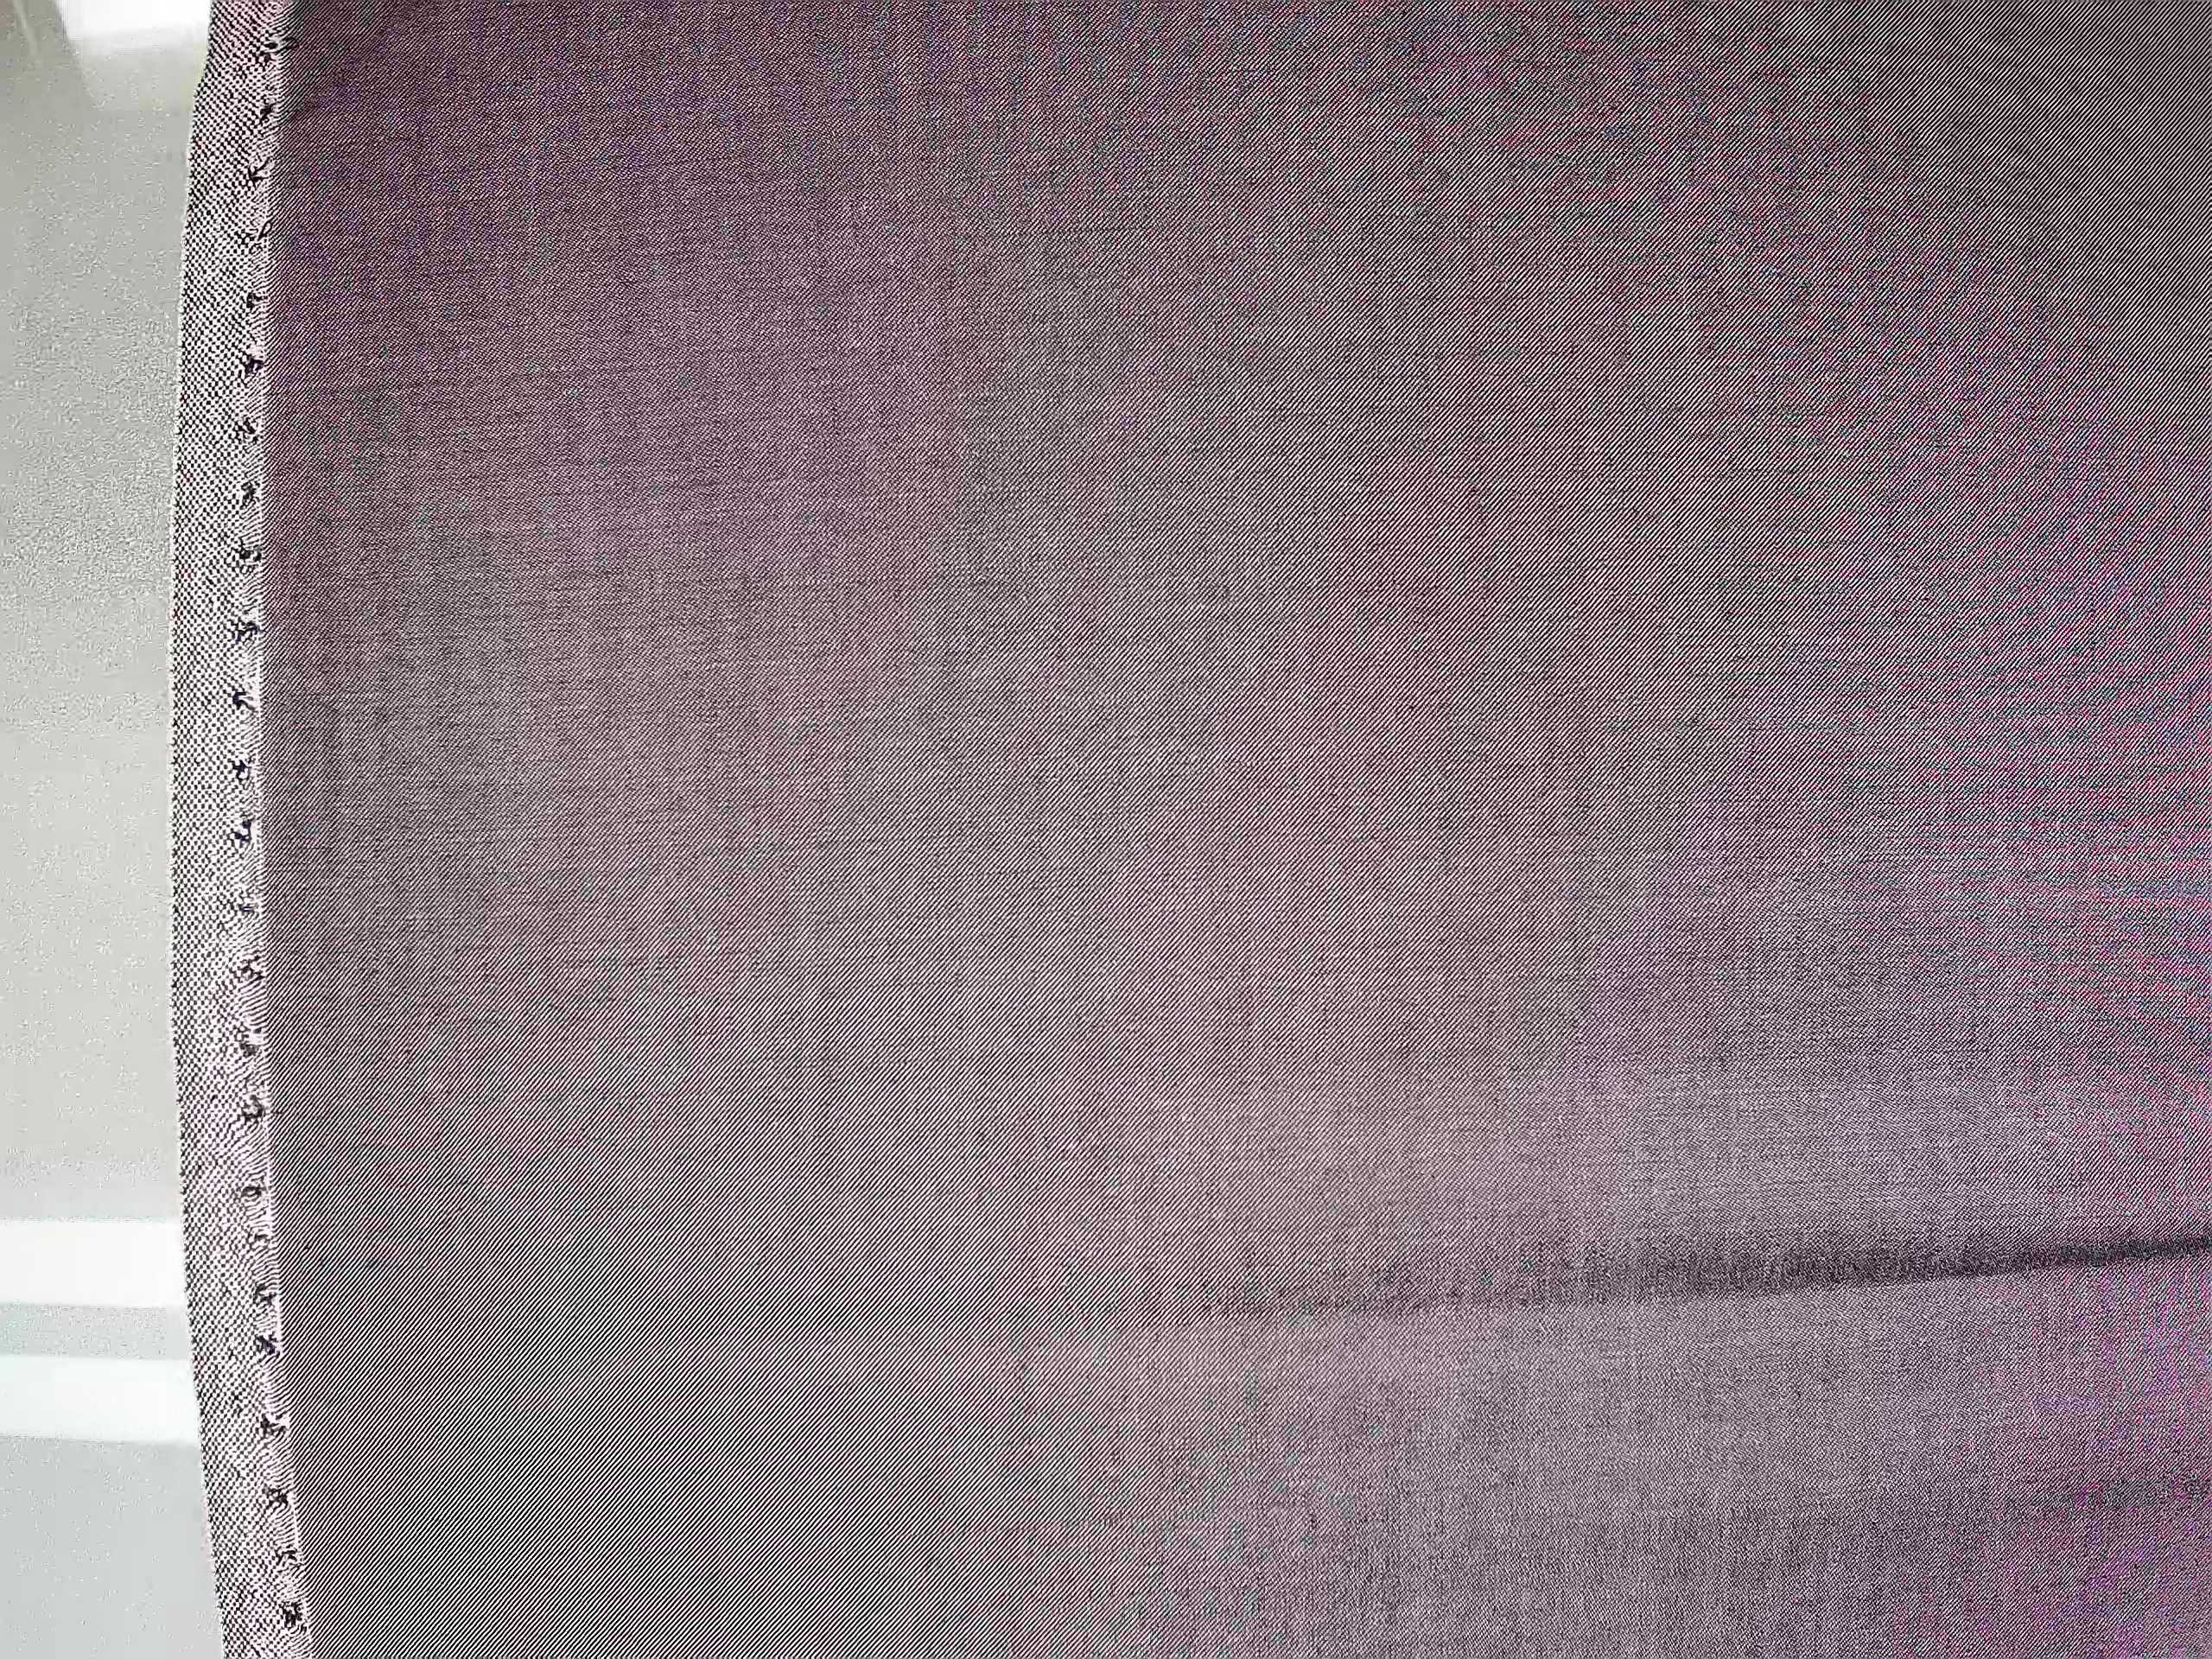puncture-hole: (214, 21, 315, 1650)
